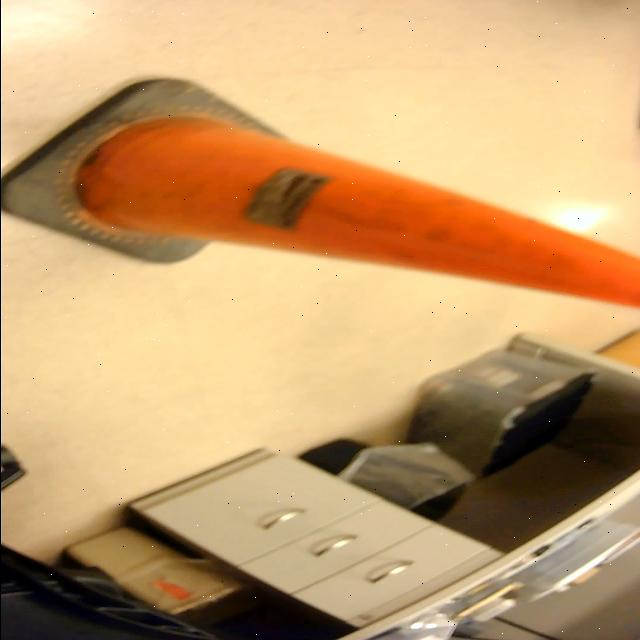traffic cone: (1, 74, 640, 314)
